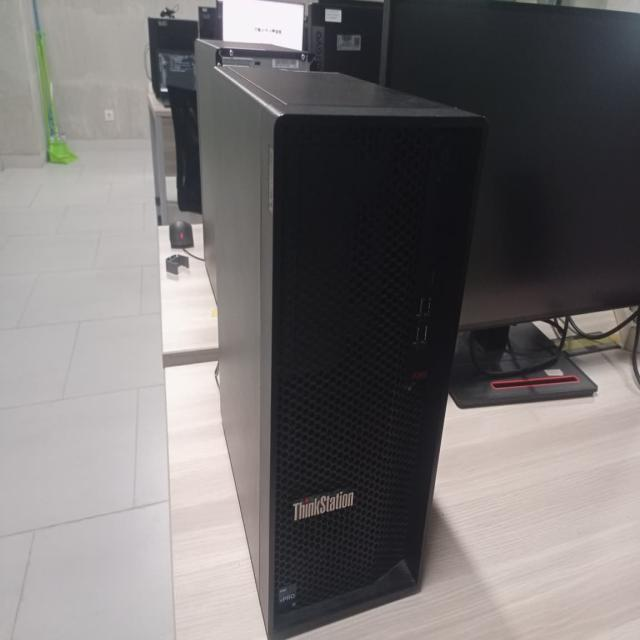monitor: (386, 0, 640, 327)
mouse: (158, 217, 202, 253)
pc: (207, 65, 486, 640)
